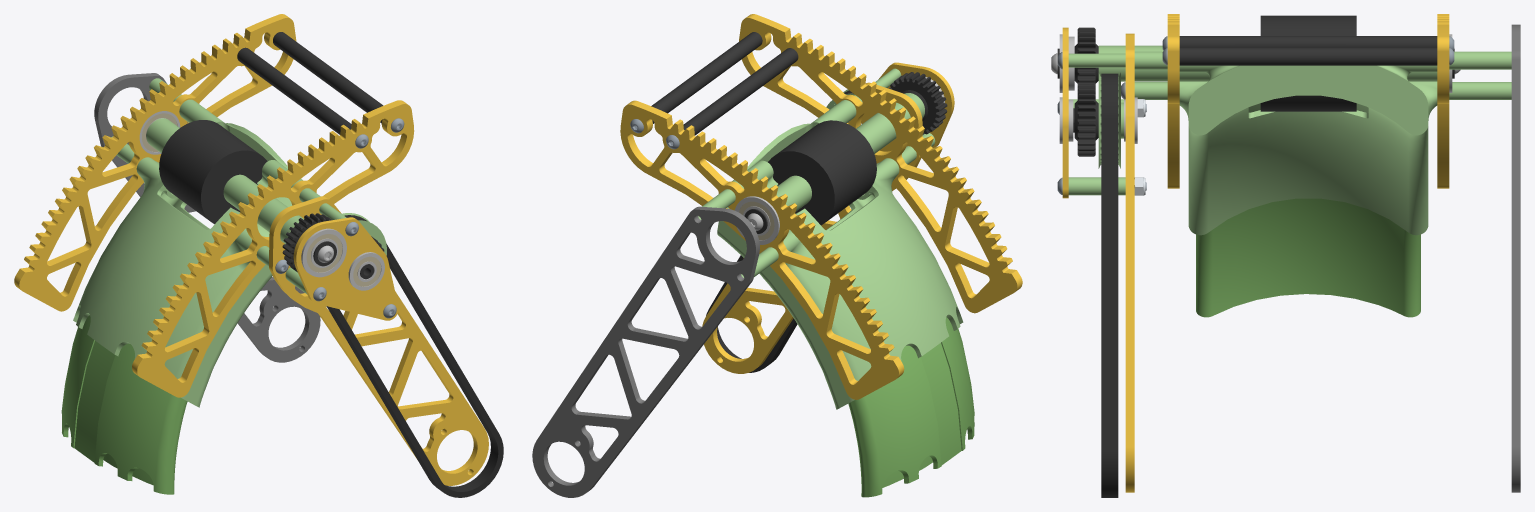
The picture shows the model from 3 angles, left to right: view 1: azimuth 30°, elevation 25°; view 2: azimuth 150°, elevation 25°; view 3: azimuth 270°, elevation 25°; orthographic projection. The views are drawn at different scales.
Parts seen in each view (by area): view 1: P-LAA02_250_6061AL_2_26 (×2), Part 23, Part 24, P-LAA03_188_6061AL_1_26, 2" Solid Urethane Wheel (45A, 1" Wide, 1/2" Hex Bore) (×2), 100T 5M 9mm Wide Belt, C-LAB18_188_6061AL_1_26, P-LAA04_125_6061AL_1_26, Shaft (×2), 1/2" Hex Bore Bearing (1.125" OD, 0.313" WD, Shielded, Flang (×2), 1/2" Hex Bore Custom Spacer (0.75" OD,3" L), 3/8" Rounded Hex (10.25mm) ID Bearing (0.875" OD, 0.281" WD, (+2 smaller); view 2: P-LAA02_250_6061AL_2_26 (×2), Part 23, C-LAB18_188_6061AL_1_26, Part 24, 2" Solid Urethane Wheel (45A, 1" Wide, 1/2" Hex Bore) (×2), P-LAA03_188_6061AL_1_26, Shaft (×2), 28t Steel Spur Gear (20 DP, 1/2" Hex Bore), P-LAA04_125_6061AL_1_26, 1/2" Hex Bore Custom Spacer (0.75" OD,3" L), 1/2" Hex Bore Bearing (1.125" OD, 0.313" WD, Shielded, Flang, 1/2" Hex Bore Custom Spacer (0.75" OD,1.688" L) (+1 smaller); view 3: Part 23, Part 24, Shaft (×2), 100T 5M 9mm Wide Belt, C-LAB18_188_6061AL_1_26, P-LAA03_188_6061AL_1_26, P-LAA02_250_6061AL_2_26 (×2), 2" Solid Urethane Wheel (45A, 1" Wide, 1/2" Hex Bore) (×2), 28t Steel Spur Gear (20 DP, 1/2" Hex Bore) (×2), 1/2" Hex Bore Custom Spacer (0.375" OD,1.297" L) (×2), P-LAA04_125_6061AL_1_26, 1/2" Hex Bore Custom Spacer (0.375" OD,0.688" L) (×2) (+4 smaller).
Part boxes in pixels (x1,y1,x2,y2): P-LAA02_250_6061AL_2_26 (×2): (14, 14, 414, 397); Part 23: (73, 99, 302, 407); Part 24: (61, 315, 187, 494); P-LAA03_188_6061AL_1_26: (269, 196, 488, 485); 2" Solid Urethane Wheel (45A, 1" Wide, 1/2" Hex Bore) (×2): (159, 120, 267, 224); 100T 5M 9mm Wide Belt: (326, 215, 503, 497); C-LAB18_188_6061AL_1_26: (94, 73, 320, 362); P-LAA04_125_6061AL_1_26: (293, 217, 398, 320); Shaft (×2): (237, 32, 383, 134); 1/2" Hex Bore Bearing (1.125" OD, 0.313" WD, Shielded, Flang (×2): (139, 111, 346, 277); 1/2" Hex Bore Custom Spacer (0.75" OD,3" L): (223, 174, 303, 243); 3/8" Rounded Hex (10.25mm) ID Bearing (0.875" OD, 0.281" WD,: (348, 252, 384, 290); P-LAA02_250_6061AL_2_26 (×2): (620, 14, 1022, 399); Part 23: (717, 100, 963, 409); C-LAB18_188_6061AL_1_26: (532, 206, 759, 497); Part 24: (848, 317, 974, 497); 2" Solid Urethane Wheel (45A, 1" Wide, 1/2" Hex Bore) (×2): (768, 120, 876, 225); P-LAA03_188_6061AL_1_26: (702, 82, 922, 373); Shaft (×2): (651, 32, 798, 135); 28t Steel Spur Gear (20 DP, 1/2" Hex Bore): (889, 72, 947, 134); P-LAA04_125_6061AL_1_26: (878, 62, 954, 147); 1/2" Hex Bore Custom Spacer (0.75" OD,3" L): (856, 102, 910, 153); 1/2" Hex Bore Bearing (1.125" OD, 0.313" WD, Shielded, Flang: (734, 196, 779, 244); 1/2" Hex Bore Custom Spacer (0.75" OD,1.688" L): (776, 175, 811, 211); Part 23: (1179, 65, 1437, 235); Part 24: (1196, 198, 1420, 317); Shaft (×2): (1179, 36, 1437, 65); 100T 5M 9mm Wide Belt: (1101, 73, 1118, 497); C-LAB18_188_6061AL_1_26: (1511, 24, 1520, 492); P-LAA03_188_6061AL_1_26: (1125, 33, 1134, 492); P-LAA02_250_6061AL_2_26 (×2): (1167, 14, 1449, 188); 2" Solid Urethane Wheel (45A, 1" Wide, 1/2" Hex Bore) (×2): (1260, 15, 1356, 111); 28t Steel Spur Gear (20 DP, 1/2" Hex Bore) (×2): (1074, 27, 1098, 156); 1/2" Hex Bore Custom Spacer (0.375" OD,1.297" L) (×2): (1449, 51, 1511, 99); P-LAA04_125_6061AL_1_26: (1062, 27, 1068, 198); 1/2" Hex Bore Custom Spacer (0.375" OD,0.688" L) (×2): (1134, 51, 1167, 99).
Bounding box in the file's own units: 0.2366 × 0.2547 × 0.2485.
